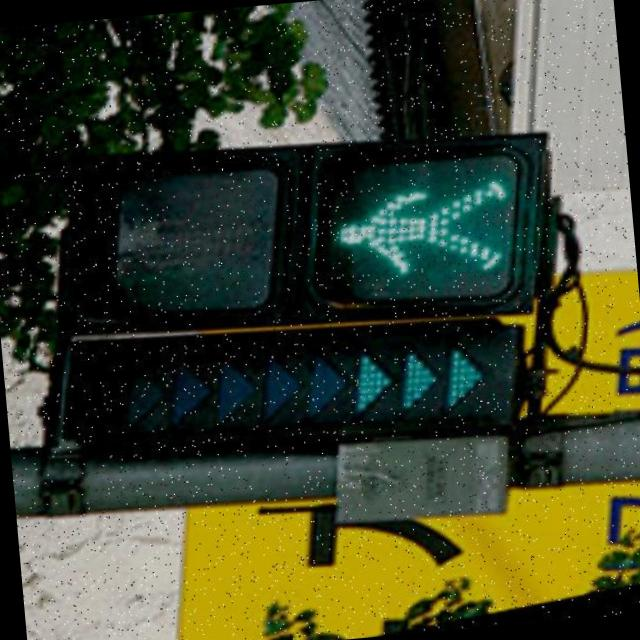green_light: (319, 152, 526, 326)
